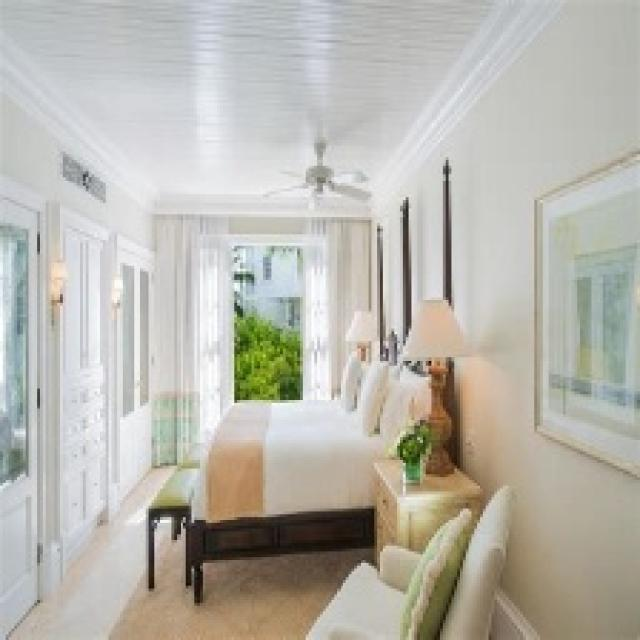Bed: (183, 351, 440, 603)
